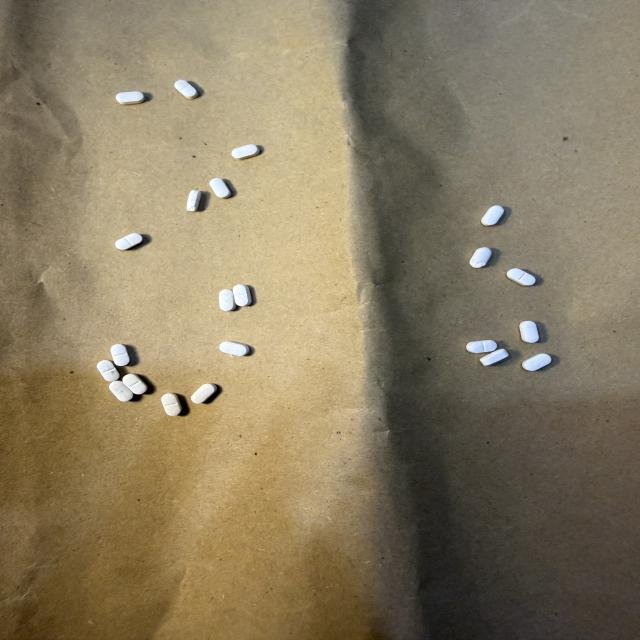pill: (191, 383, 217, 404), (507, 268, 535, 286), (522, 354, 551, 371), (109, 381, 133, 401), (123, 374, 147, 394), (97, 360, 119, 381), (481, 206, 504, 226), (115, 233, 142, 250), (480, 349, 508, 365), (470, 247, 491, 268), (161, 394, 181, 416), (520, 321, 539, 343), (175, 80, 197, 99), (220, 342, 249, 356), (232, 144, 259, 159), (210, 178, 230, 198), (111, 344, 129, 366), (233, 285, 251, 306), (467, 340, 496, 353), (116, 91, 144, 104), (219, 290, 235, 310), (187, 190, 201, 211)
